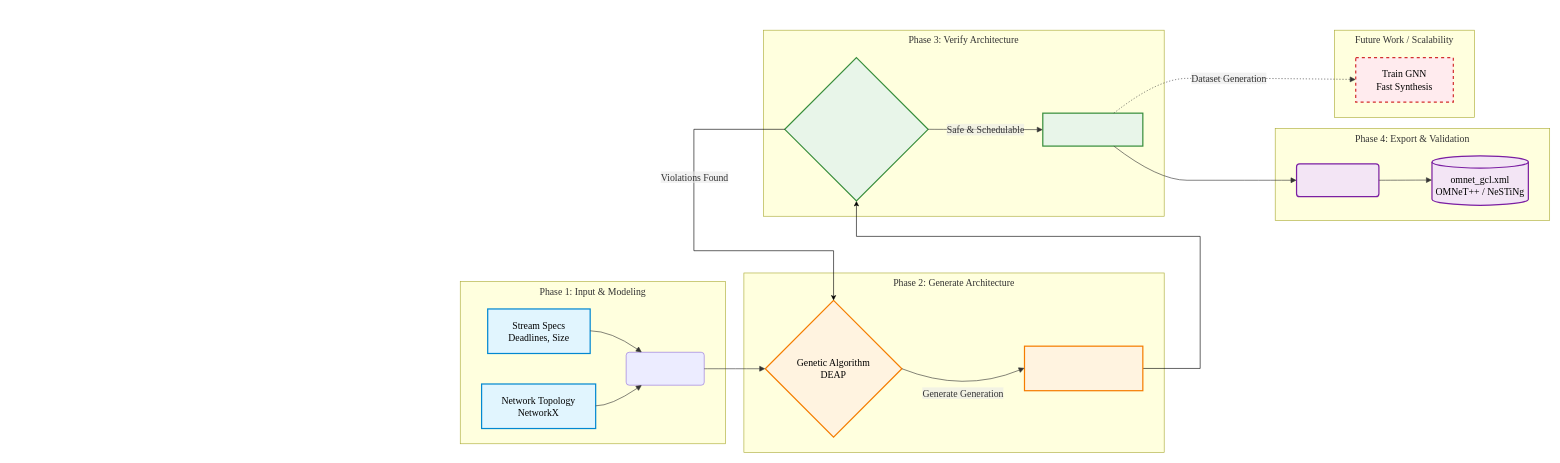
This 1560x463 diagram has some shape labels left out. Each missing label, with the centre of its shape:
Proposed Schedule Injection Times: (1083,368)
System Model: (665,368)
Valid Schedule: (1092,129)
XML Formatter: (1337,180)
Z3 SMT Solver Formal Verification: (856,129)
